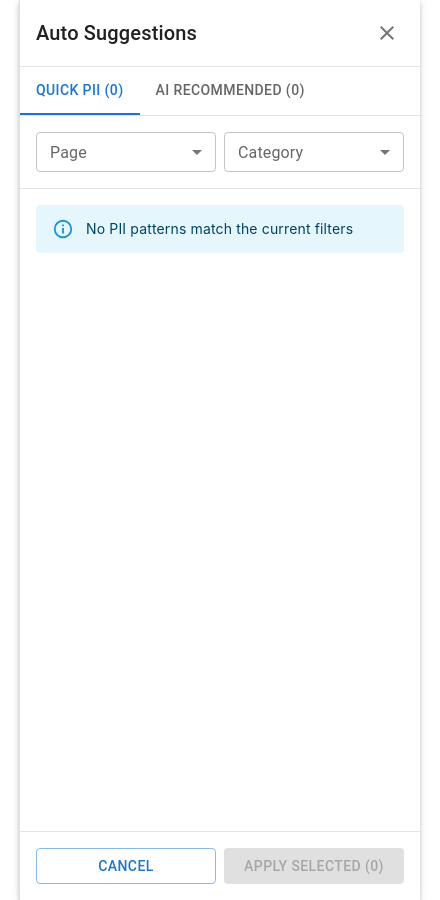
Scenario: AutoSuggestDrawer › shows "AI suggestions not loaded yet" with Generate button when AI tab is empty
Click the tab "AI Recommended (0)" at (230, 91), box [140,67,321,115]
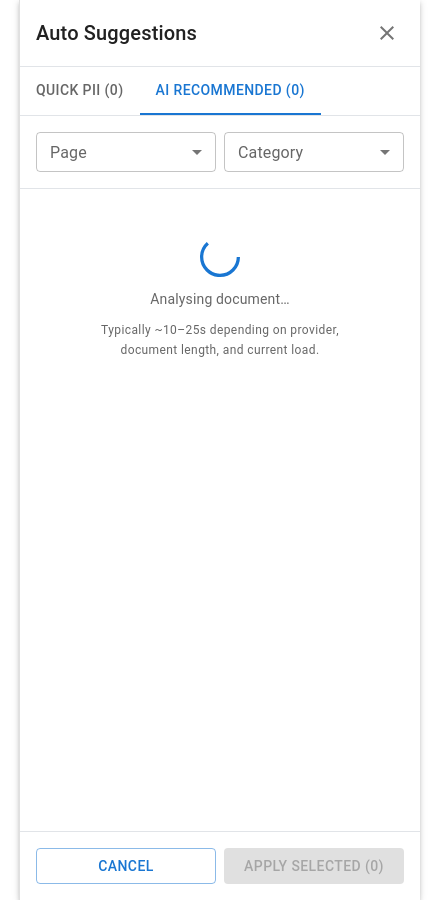
Check: the progress indicator is shown, box [200,237,240,277]
